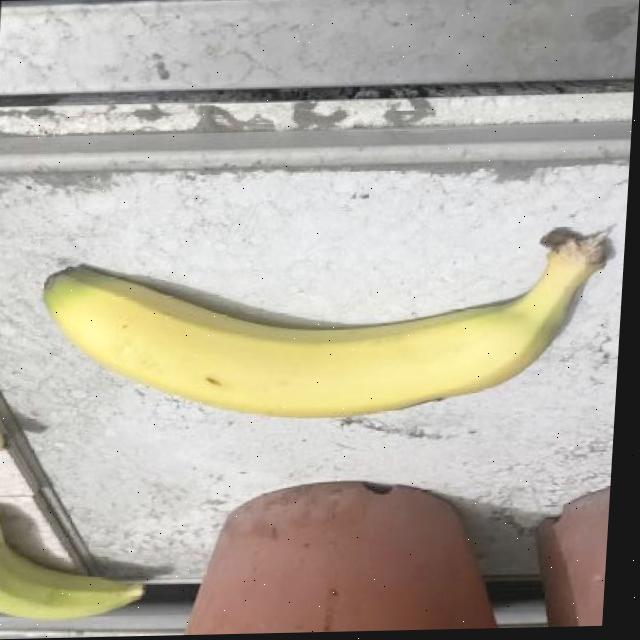banana: (26, 221, 620, 431), (0, 491, 156, 636)
